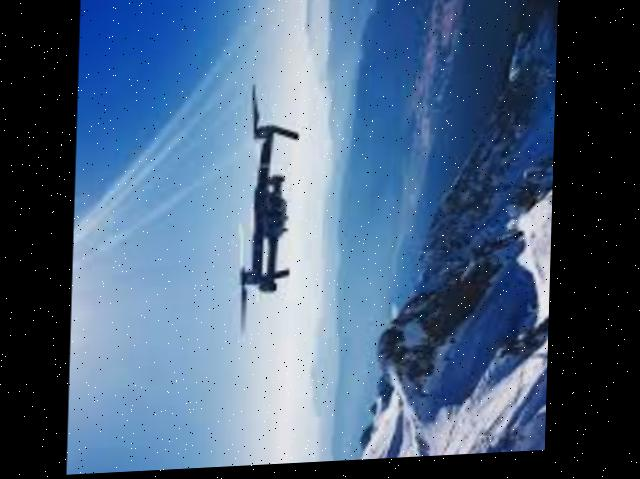drone: (222, 73, 318, 359)
